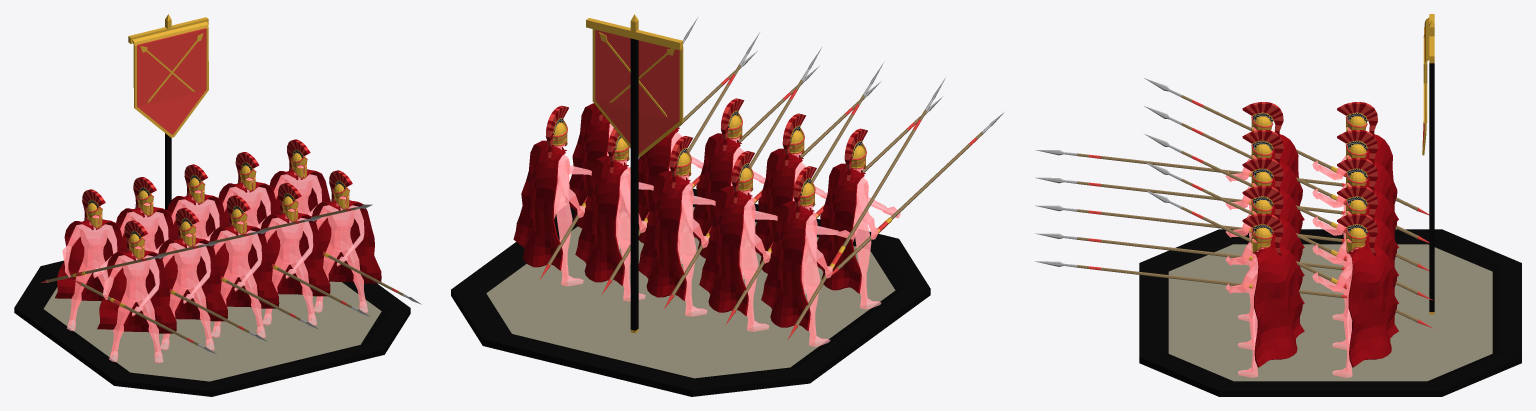
File: red spear unit merged.fbx
3 renders of one model, left to right at view 1: azimuth 30°, elevation 25°; view 2: azimuth 150°, elevation 25°; view 3: azimuth 270°, elevation 25°, orthographic. The views are drawn at different scales.
Visible parts, largest first — view 1: Cube; view 2: Cube; view 3: Cube.
Boxes of the visible parts, x1=… form: Cube: x1=14, y1=14, x2=421, y2=396; Cube: x1=451, y1=14, x2=1004, y2=396; Cube: x1=1034, y1=14, x2=1521, y2=396.
Bounding box in the file's own units: 500 × 428 × 638.
